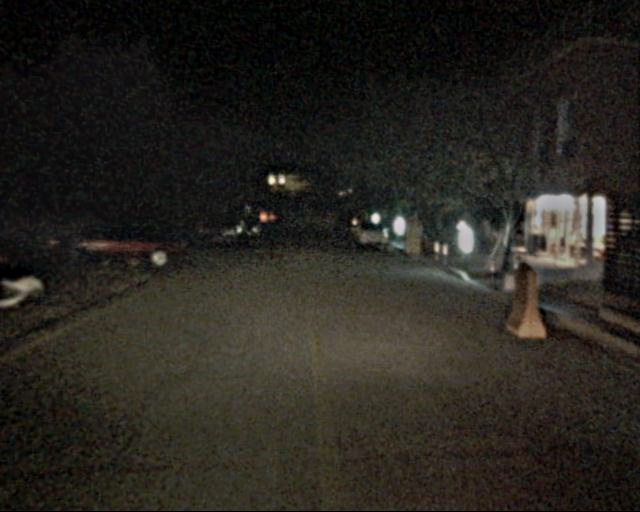person: (476, 218, 496, 267)
